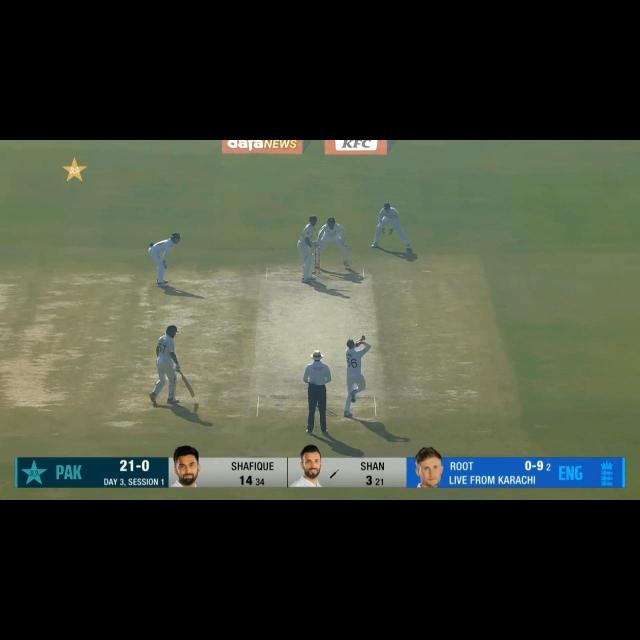bat: (182, 376, 196, 398), (316, 228, 324, 242)
toe: (192, 392, 196, 398), (322, 228, 325, 233)
